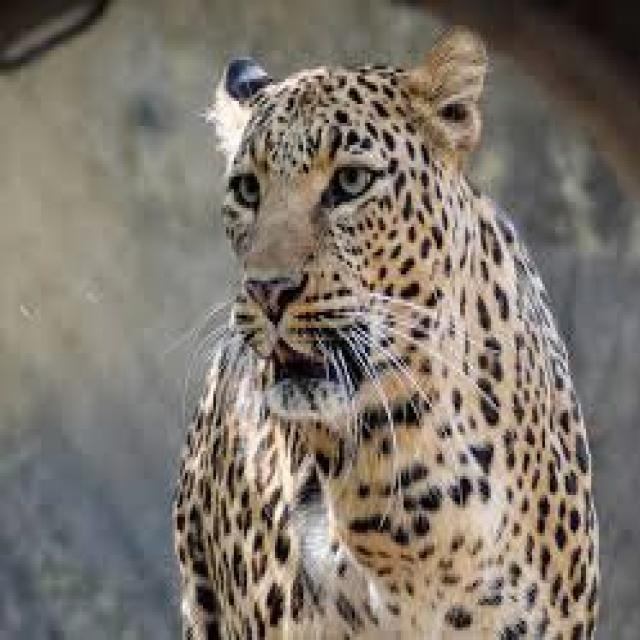leopard: (172, 28, 596, 637)
